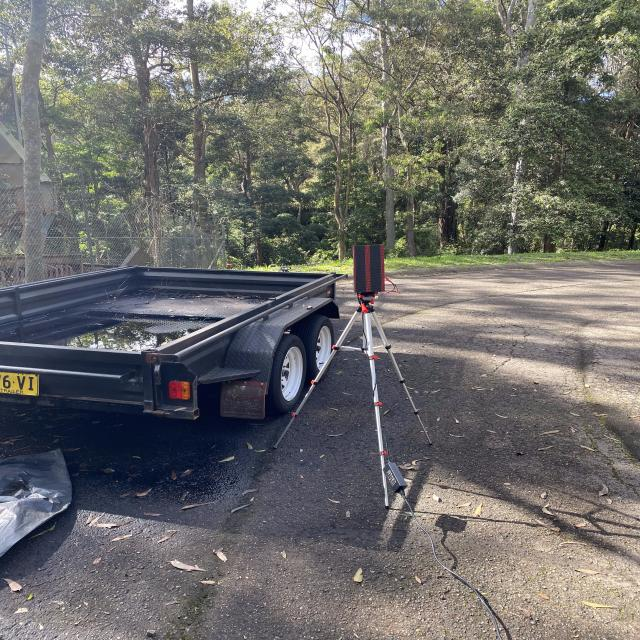matrix: (345, 236, 392, 302)
